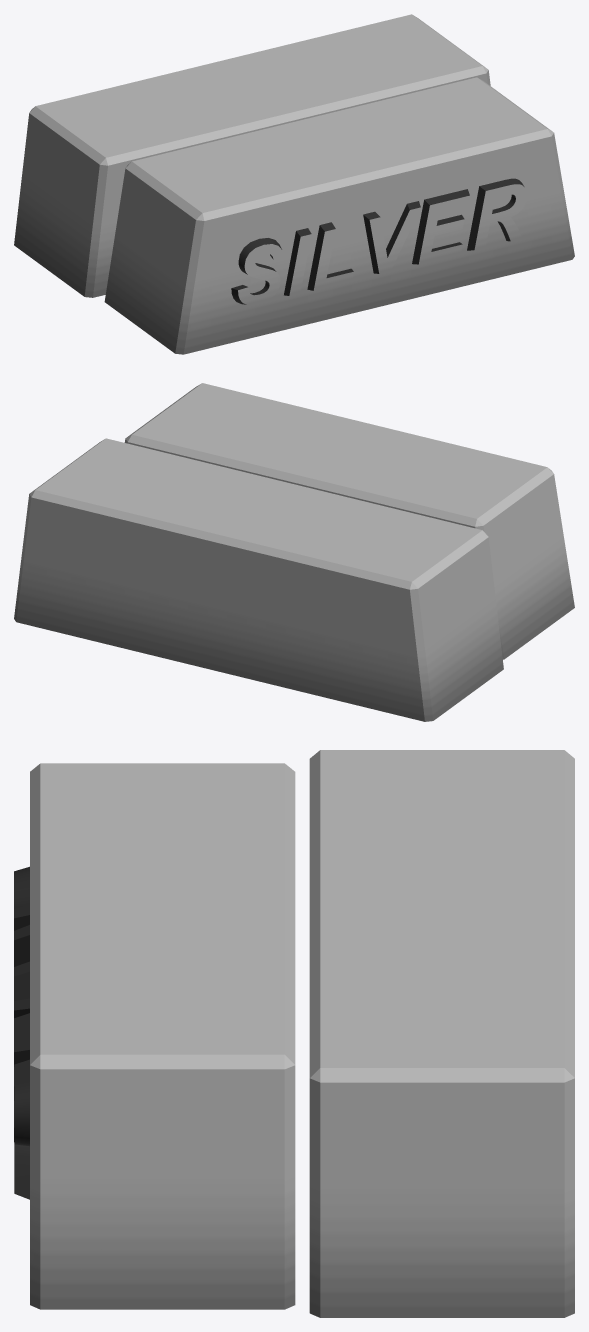
File: Silver_Platform.fbx
3 views of the same model, one above another, from view 1: azimuth 30°, elevation 25°; view 2: azimuth 150°, elevation 25°; view 3: azimuth 270°, elevation 25° (orthographic). The views are drawn at different scales.
Parts seen in each view (by area): view 1: SilverPlatform; view 2: SilverPlatform; view 3: SilverPlatform.
Part boxes in pixels (x1=…): SilverPlatform: x1=14, y1=14, x2=574, y2=354; SilverPlatform: x1=14, y1=383, x2=574, y2=721; SilverPlatform: x1=14, y1=750, x2=574, y2=1317.
Size of the model in its own units: 1.53 by 0.4668 by 1.02.
